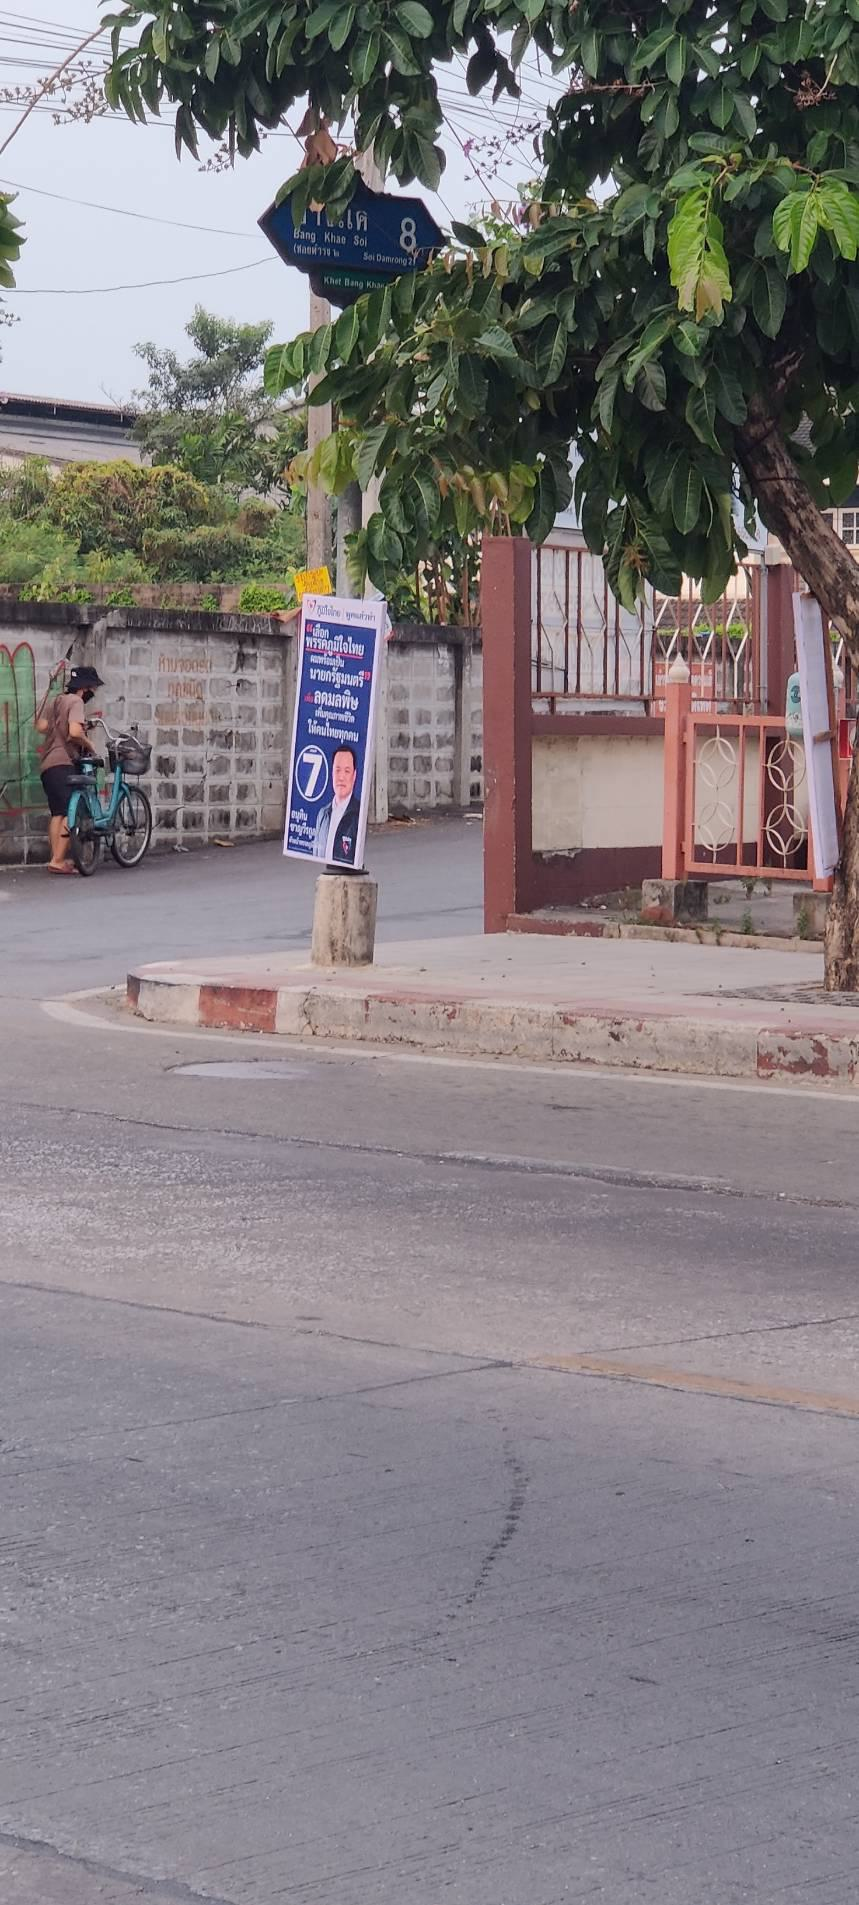Banner: (262, 587, 388, 871)
